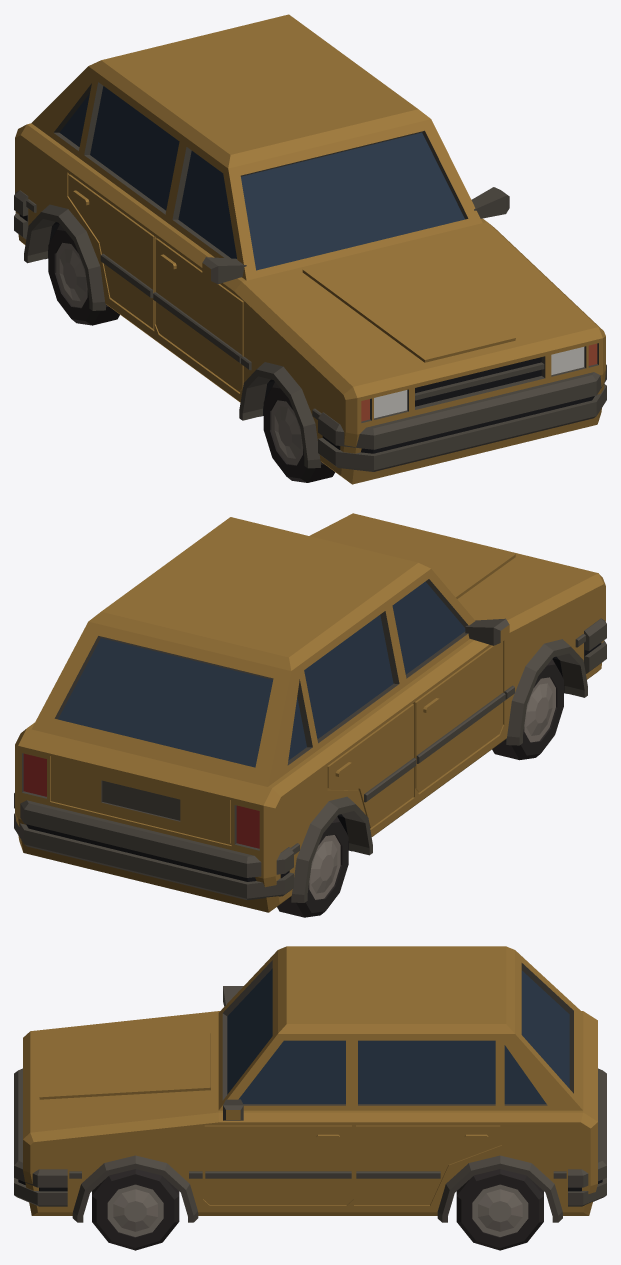
Rendered from compact-hatchback-386417.glb.
The picture shows the model from 3 angles, top to bottom: view 1: azimuth 30°, elevation 25°; view 2: azimuth 150°, elevation 25°; view 3: azimuth 270°, elevation 25°; orthographic projection. The views are drawn at different scales.
Parts seen in each view (by area): view 1: body, wheel-fr-mesh, wheel-rr-mesh; view 2: body, wheel-rr-mesh, wheel-fr-mesh; view 3: body, wheel-fl-mesh, wheel-rl-mesh.
Part boxes in pixels (x1,y1,x2,y2): body: [14, 14, 606, 484]; wheel-fr-mesh: [263, 382, 335, 482]; wheel-rr-mesh: [48, 224, 119, 325]; body: [14, 513, 606, 912]; wheel-rr-mesh: [277, 816, 348, 917]; wheel-fr-mesh: [492, 659, 563, 760]; body: [14, 946, 606, 1222]; wheel-fl-mesh: [92, 1169, 179, 1250]; wheel-rl-mesh: [456, 1169, 543, 1250].
Size of the model in its own units: 1.97 by 1.6 by 4.
